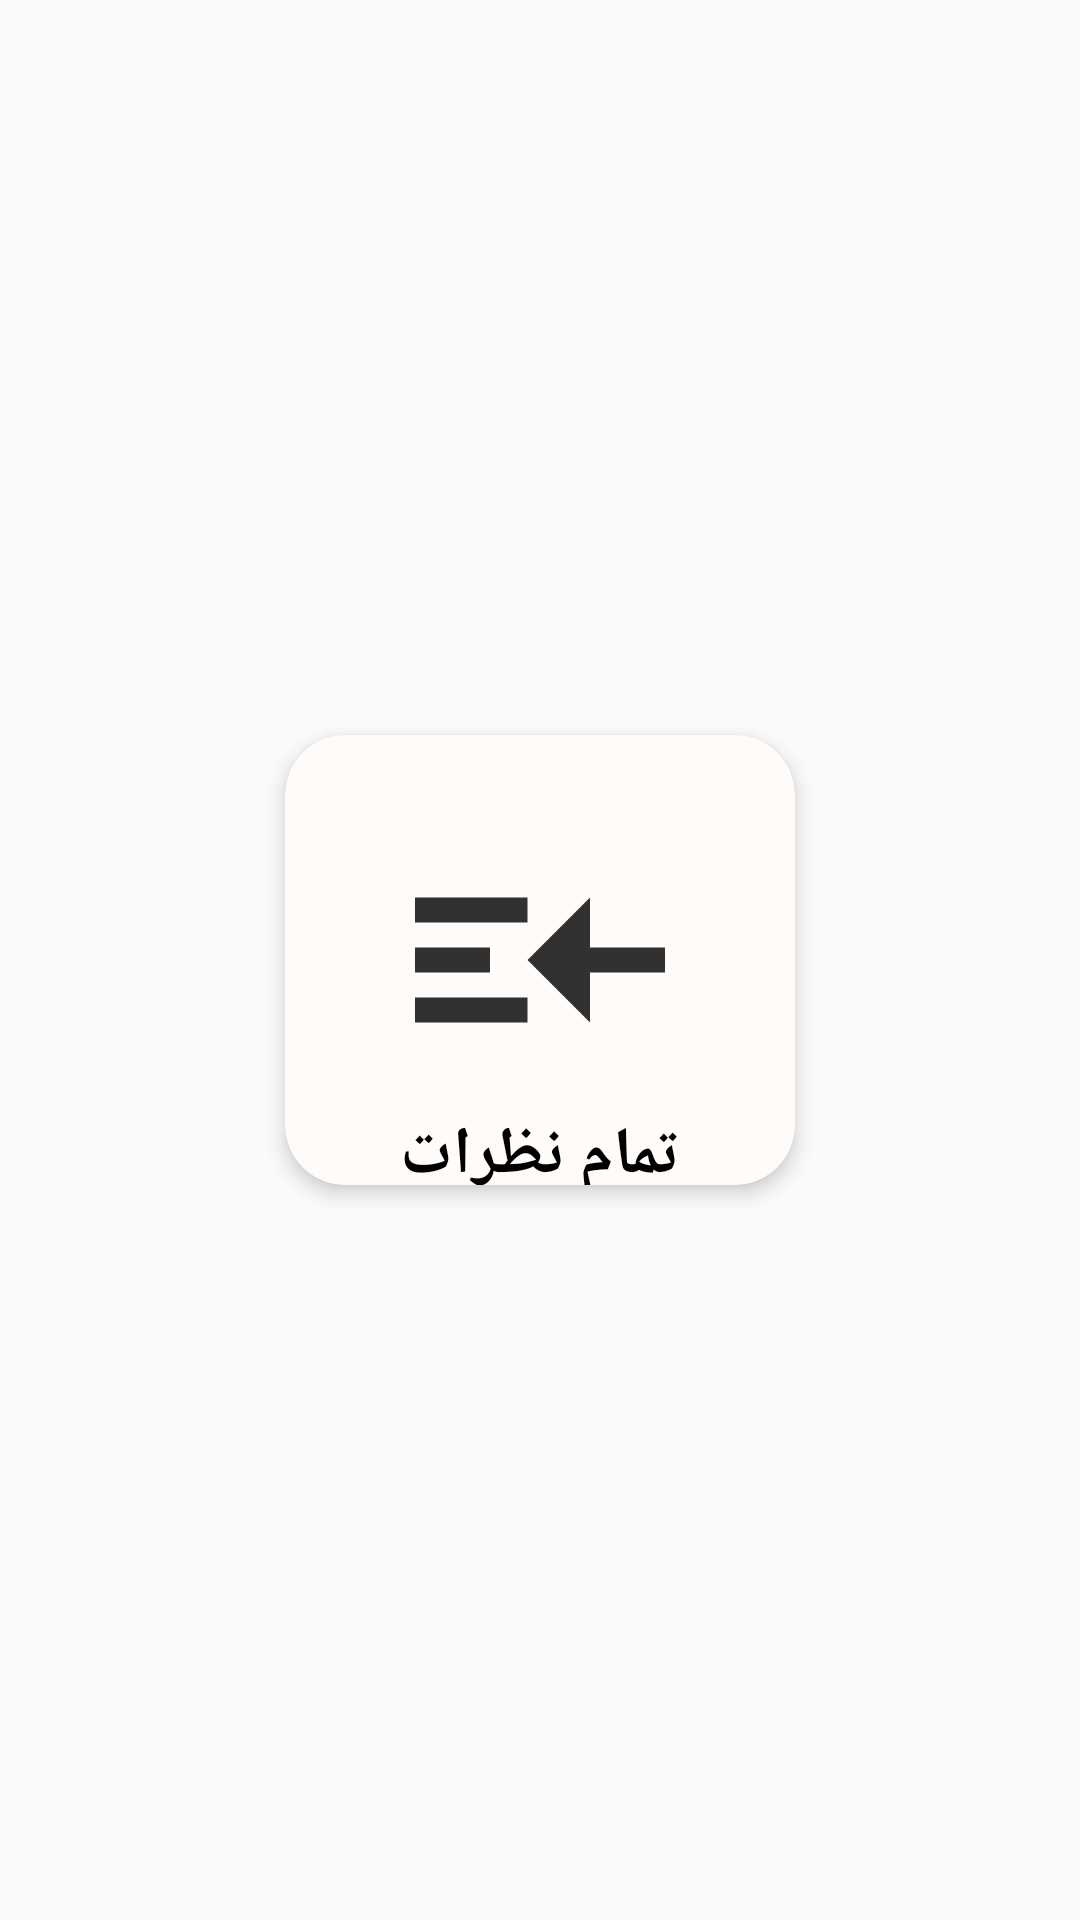

Icons on this 1080w x 1920h Android screen, each with the point to tap as [x,y]:
read more: [540,960]
